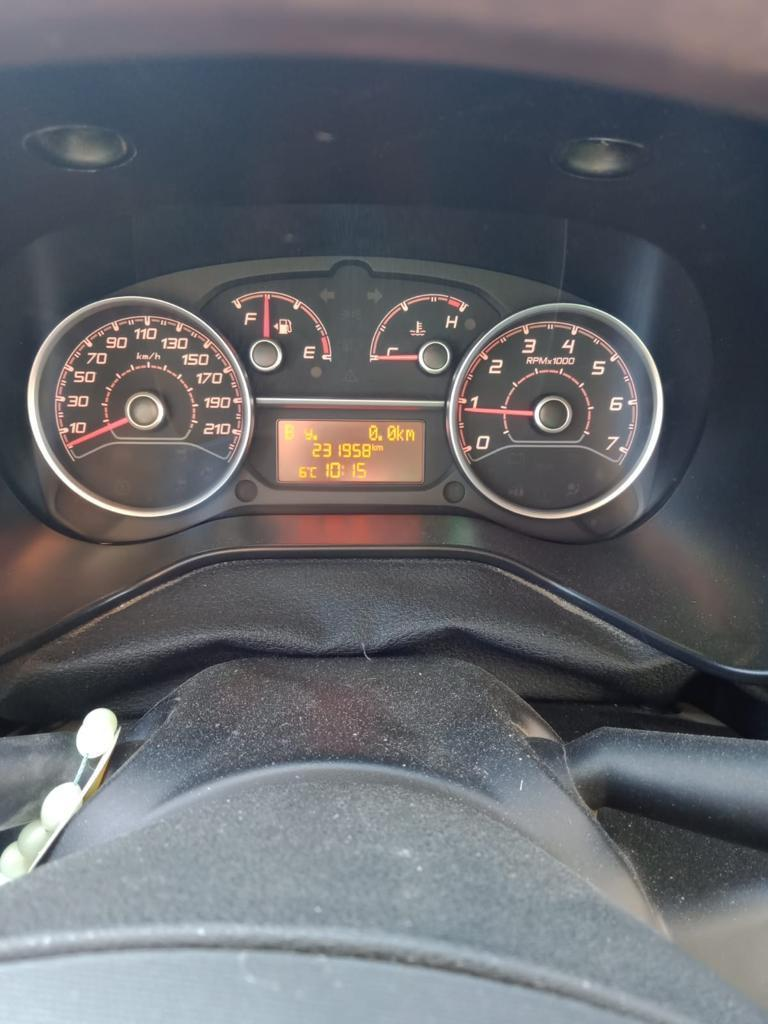,: (377, 435, 383, 441), (313, 434, 317, 440)
0: (329, 461, 340, 478), (368, 424, 377, 440), (387, 425, 396, 441)
1: (325, 462, 329, 477), (351, 463, 355, 477), (337, 443, 341, 457)
2: (312, 442, 321, 457)
3: (322, 443, 331, 457)
5: (356, 462, 366, 478), (351, 442, 361, 457)
6: (298, 466, 307, 478)
8: (361, 443, 371, 457)
9: (342, 443, 351, 457)
X: (396, 424, 404, 441), (405, 428, 414, 441), (304, 427, 312, 440), (310, 466, 317, 478), (340, 463, 344, 476), (376, 444, 383, 451), (371, 443, 376, 451)
odometer: (274, 418, 429, 486)
